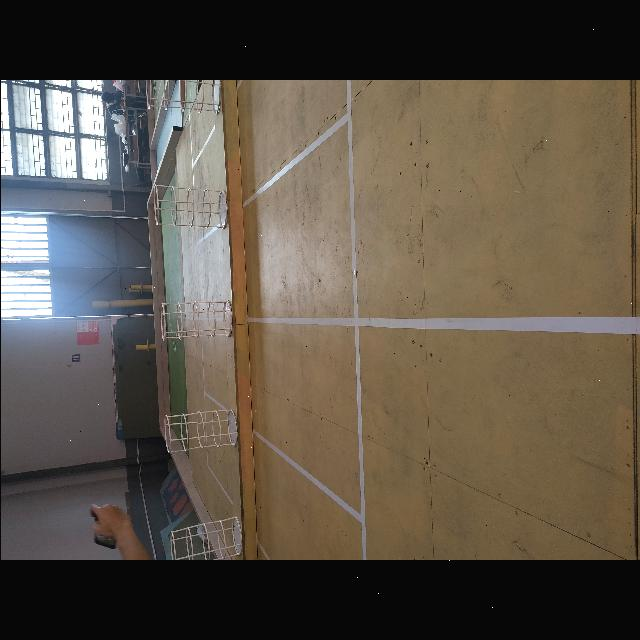S: (152, 182, 228, 230), (162, 407, 238, 453), (168, 515, 243, 560), (158, 299, 233, 342)
